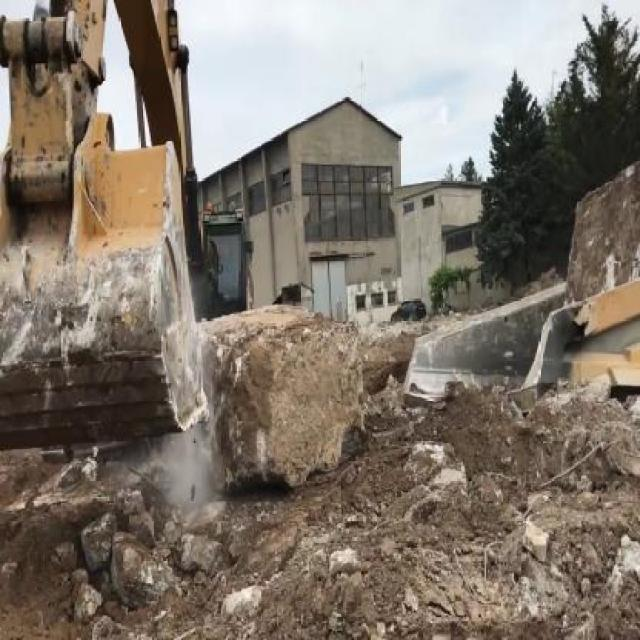dump_truck: (397, 257, 640, 398)
excavator: (0, 0, 252, 451)
